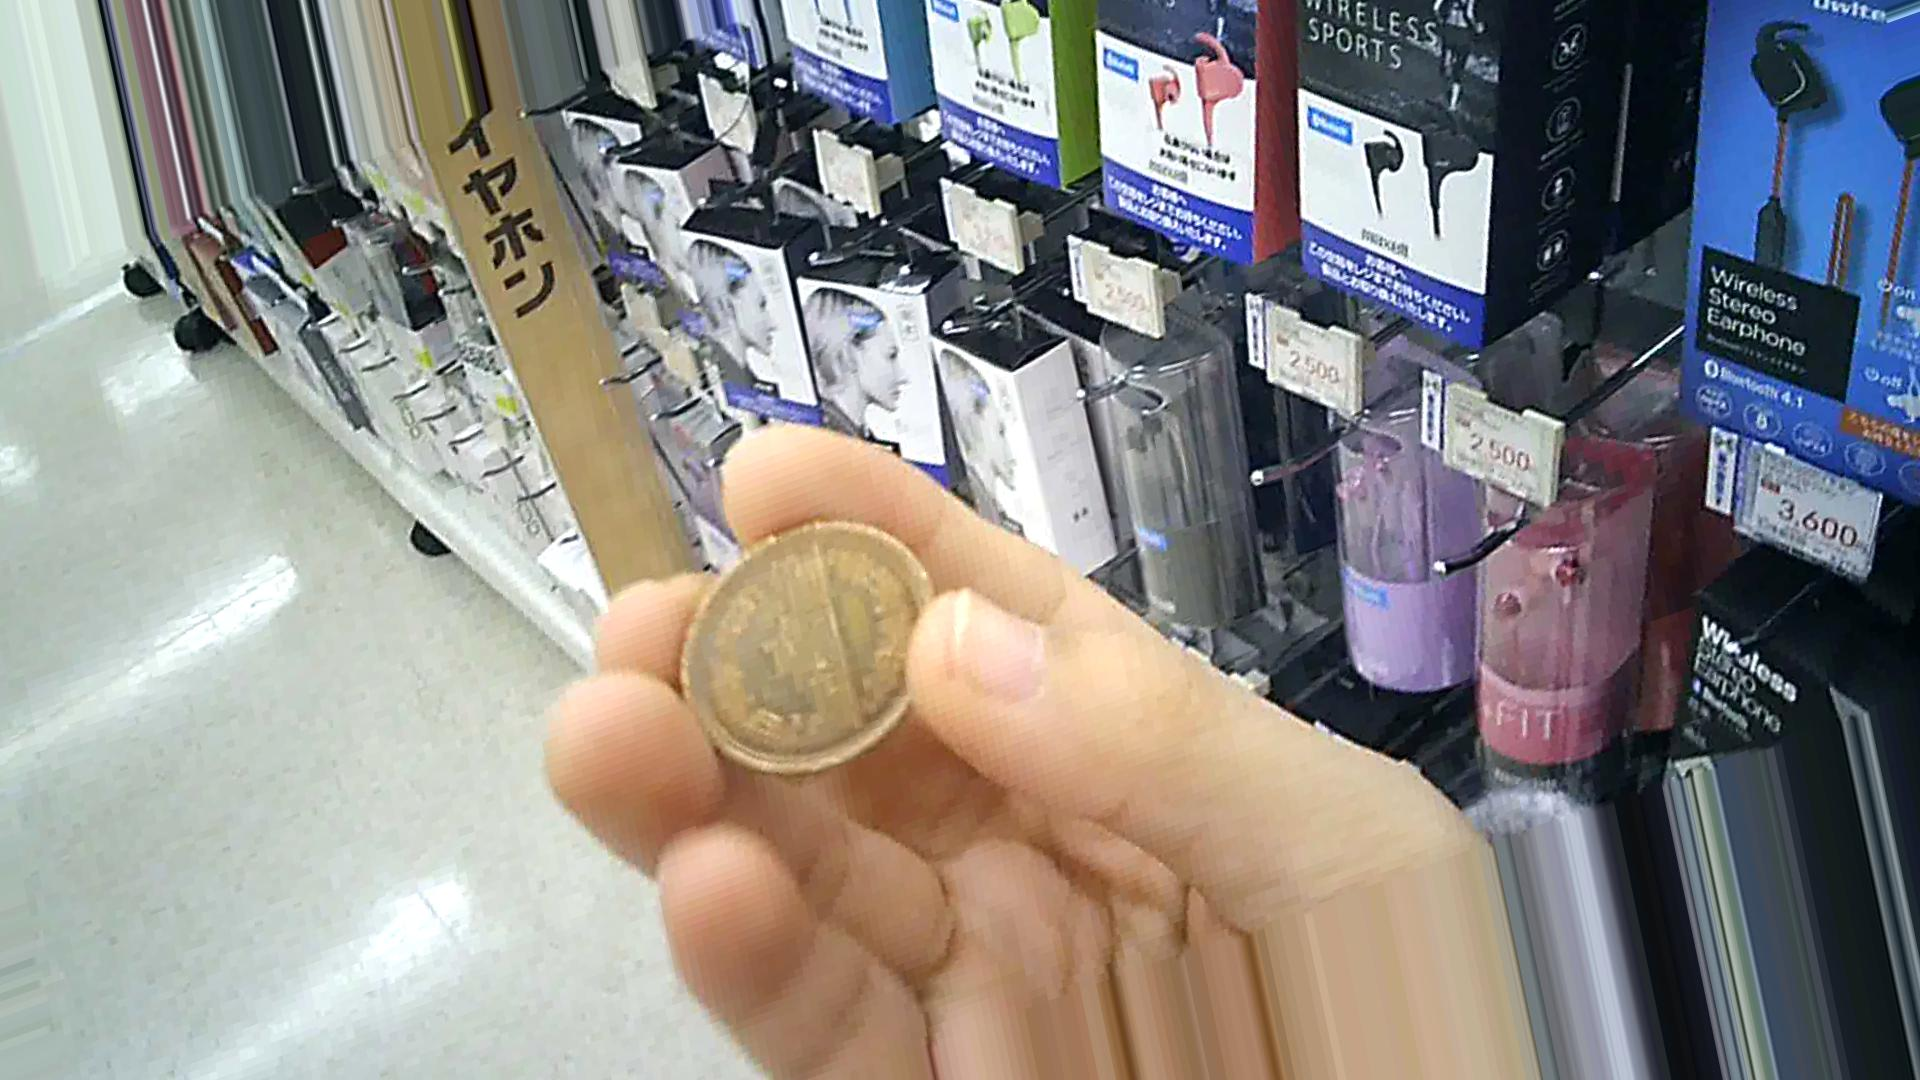10 Yen: (658, 513, 934, 793)
